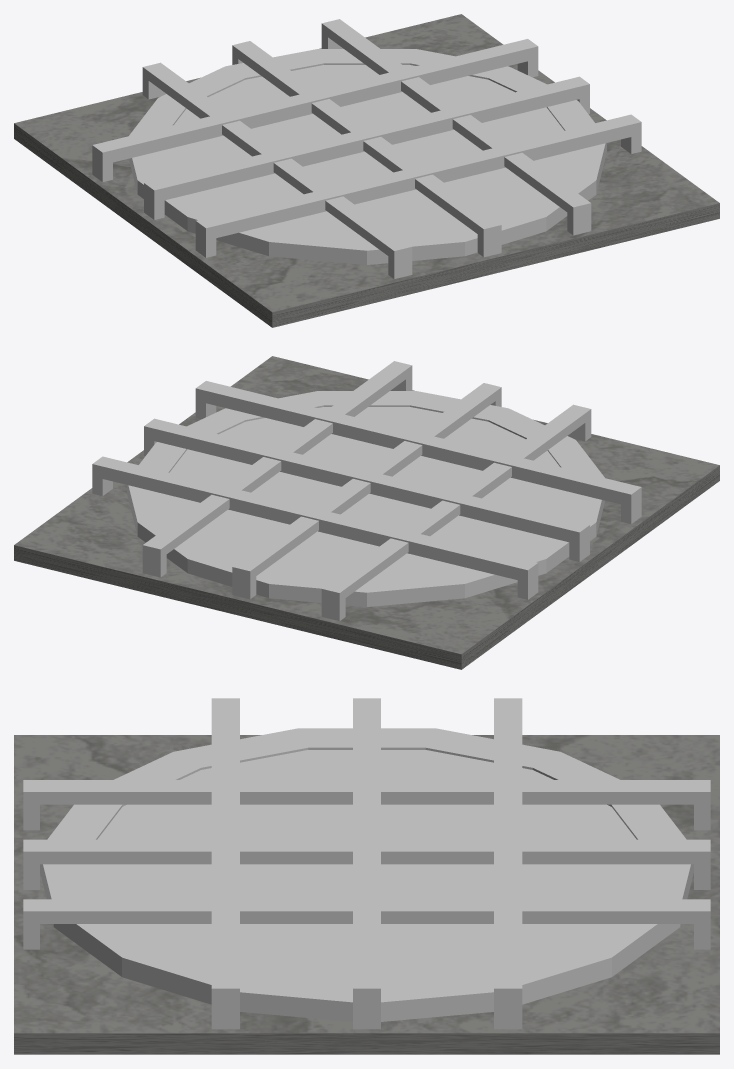
Rendered from groundtrap_3_firetrap.fbx.
3 views of the same model, one above another, from view 1: azimuth 30°, elevation 25°; view 2: azimuth 150°, elevation 25°; view 3: azimuth 270°, elevation 25° (orthographic). The views are drawn at different scales.
Visible parts, largest first — view 1: Cube, Cylinder, Tube, Cube_4, Cube_5, Cube_6, Cube_2, Cube_3, Cube_1; view 2: Cube, Cylinder, Tube, Cube_5, Cube_4, Cube_6, Cube_2, Cube_3, Cube_1; view 3: Cube, Cylinder, Tube, Cube_1, Cube_3, Cube_2, Cube_5, Cube_4, Cube_6.
Part boxes in pixels (left/top/right/bottom): Cube: left=14, top=14, right=719, bottom=327; Cylinder: left=164, top=65, right=569, bottom=235; Tube: left=129, top=49, right=606, bottom=264; Cube_4: left=195, top=114, right=641, bottom=257; Cube_5: left=92, top=39, right=538, bottom=182; Cube_6: left=144, top=76, right=589, bottom=219; Cube_2: left=142, top=62, right=412, bottom=279; Cube_3: left=321, top=19, right=591, bottom=235; Cube_1: left=232, top=41, right=501, bottom=257; Cube: left=14, top=356, right=719, bottom=669; Cylinder: left=164, top=407, right=569, bottom=577; Tube: left=127, top=391, right=604, bottom=606; Cube_5: left=92, top=456, right=538, bottom=599; Cube_4: left=195, top=381, right=641, bottom=524; Cube_6: left=144, top=418, right=589, bottom=561; Cube_2: left=321, top=404, right=591, bottom=621; Cube_3: left=142, top=361, right=412, bottom=577; Cube_1: left=232, top=383, right=501, bottom=599; Cube: left=14, top=735, right=719, bottom=1054; Cylinder: left=89, top=750, right=644, bottom=982; Tube: left=40, top=728, right=693, bottom=1021; Cube_1: left=23, top=839, right=710, bottom=889; Cube_3: left=23, top=899, right=710, bottom=949; Cube_2: left=23, top=780, right=710, bottom=830; Cube_5: left=494, top=698, right=522, bottom=1029; Cube_4: left=211, top=698, right=239, bottom=1029; Cube_6: left=353, top=698, right=380, bottom=1029.
Size of the model in its own units: 150 by 14.49 by 150.
3 materials, 1 textured.
